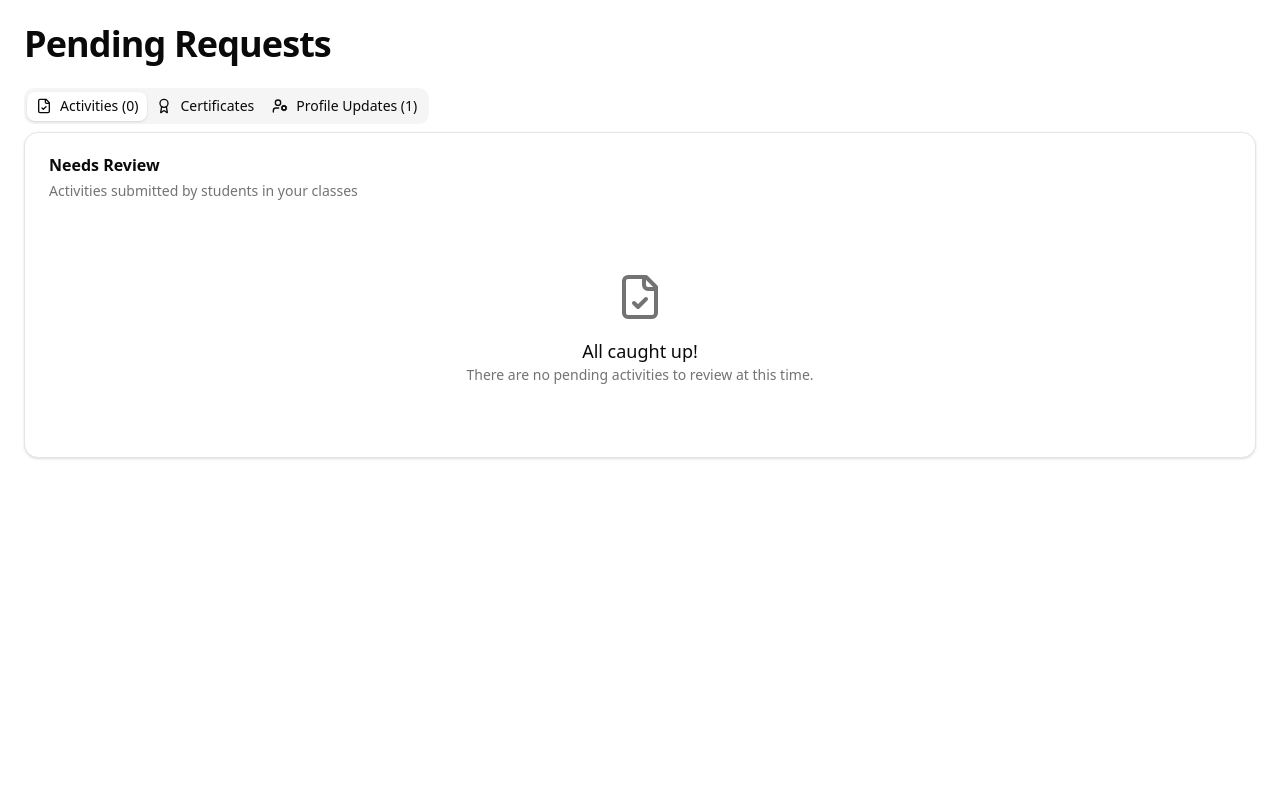
Scenario: PendingRequestsPage — Profile Updates tab › requires a teacherNote before Reject can be submitted, then rejects
Step 1. Click the tab "Profile Updates (1)" → (345, 106), box left=263, top=92, right=426, bottom=120
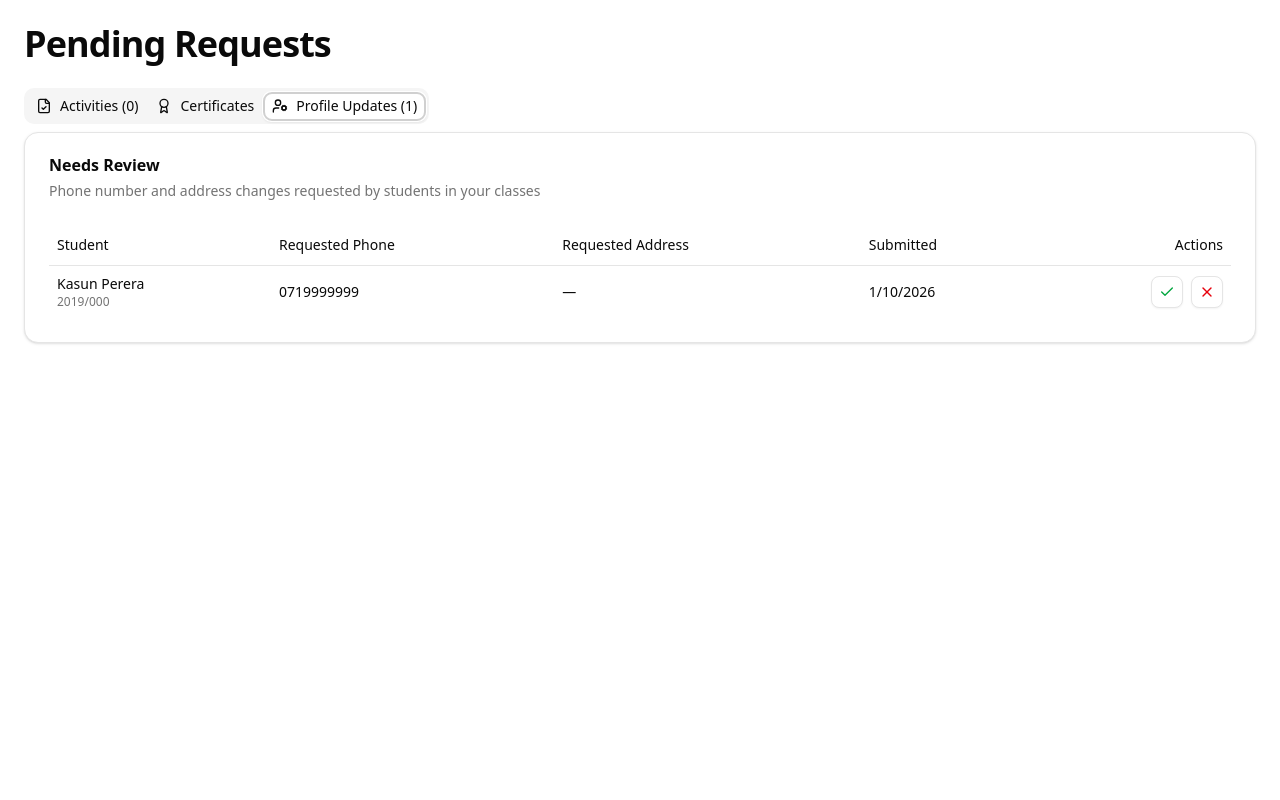
Check: the text "Kasun Perera" is shown, box left=57, top=274, right=144, bottom=292
Step 2. Click the button named "Reject" → (1207, 292), box left=1191, top=276, right=1223, bottom=308
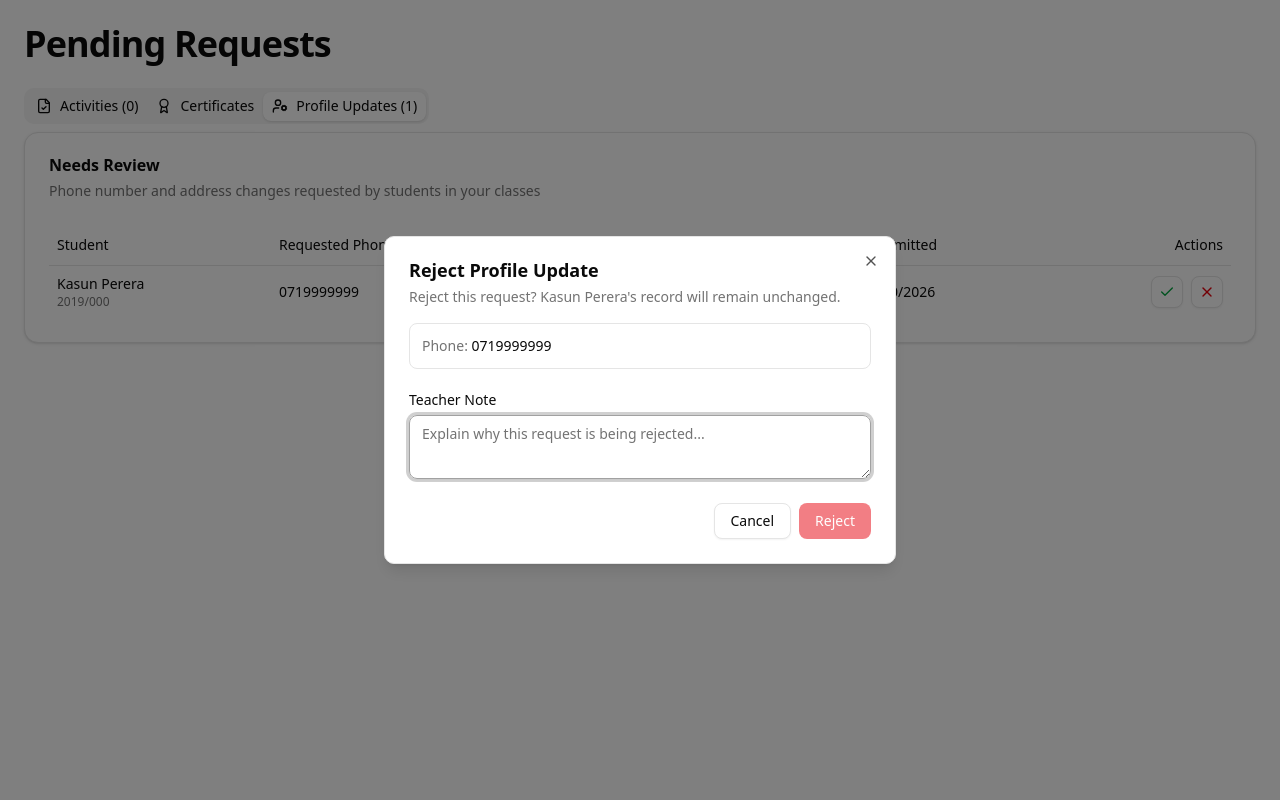
Check: the button "Reject" is disabled, box left=799, top=503, right=871, bottom=539
Step 3. Type "Please provide a verifiable number." into the text box labelled "Teacher Note" → (640, 447), box left=409, top=415, right=871, bottom=479
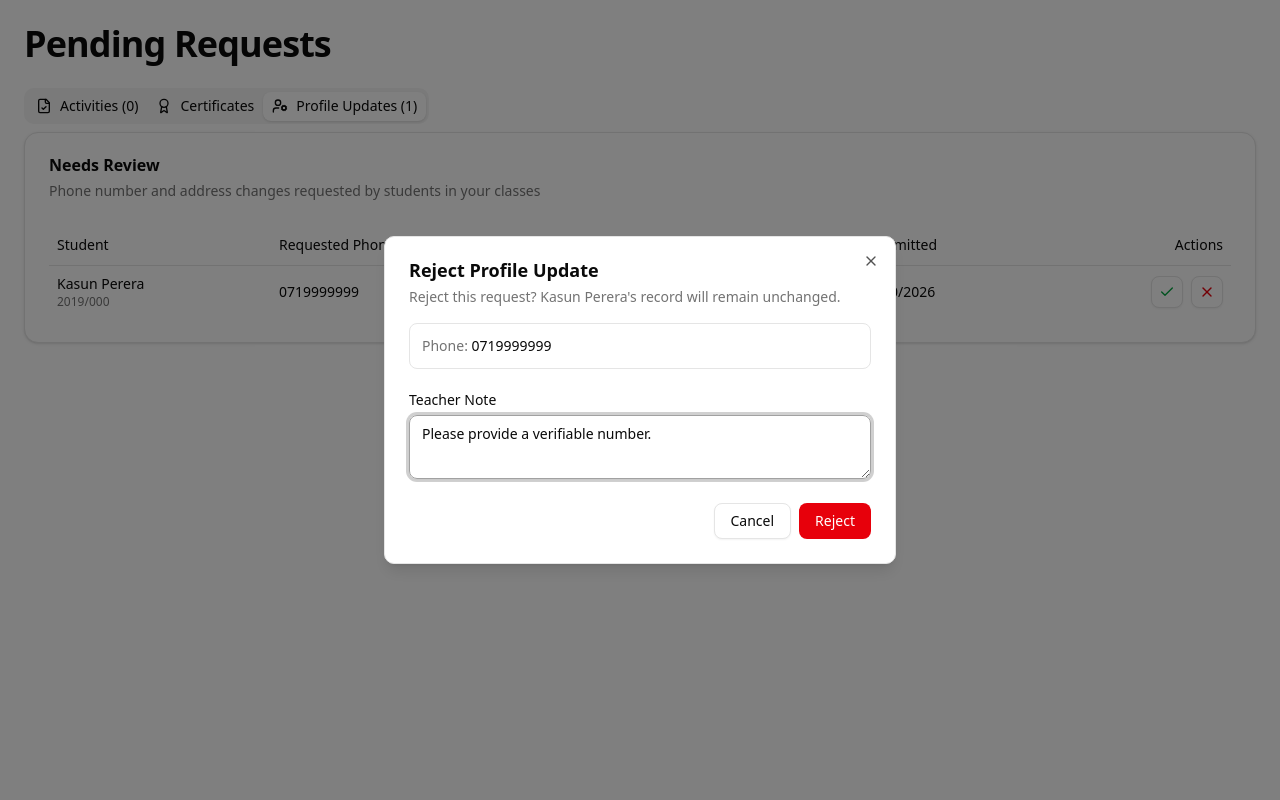
Check: the button "Reject" is enabled
Step 4. Click the button "Reject" → (835, 521), box left=799, top=503, right=871, bottom=539
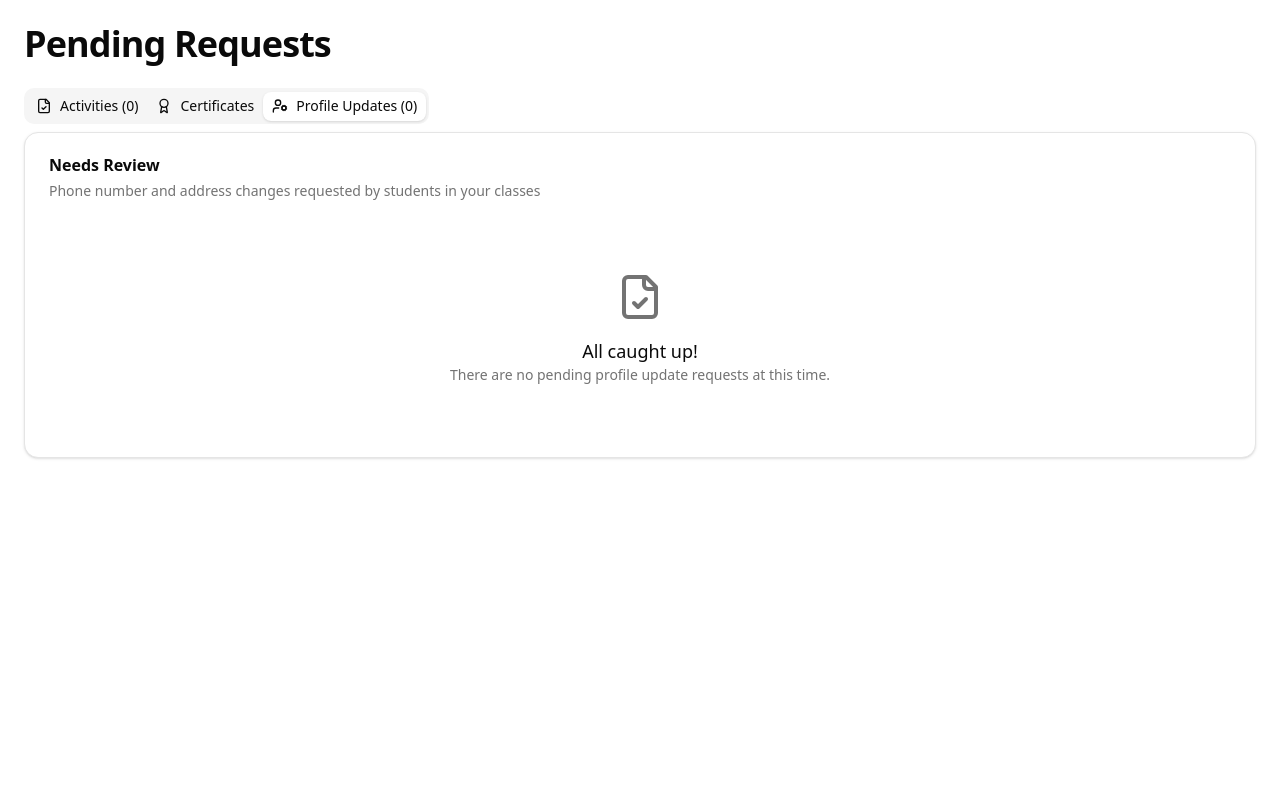
Check: the text "All caught up!" is shown, box left=582, top=337, right=698, bottom=365
